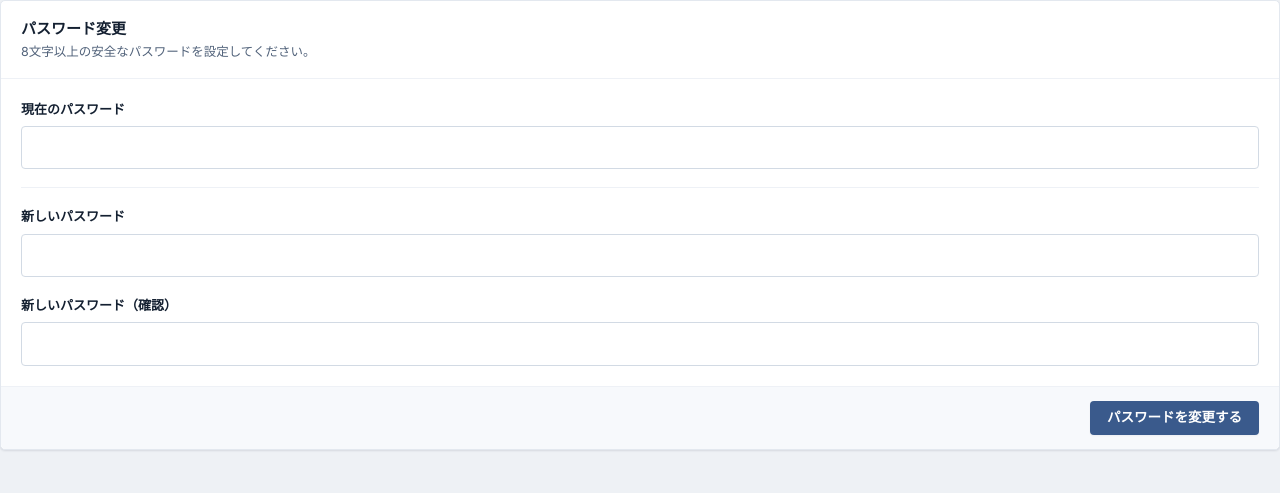
ChangePasswordForm › shows mismatch error when passwords differ
Type "old-password" into the password field with test id "current-password" at (640, 148), box [21,126,1259,170]
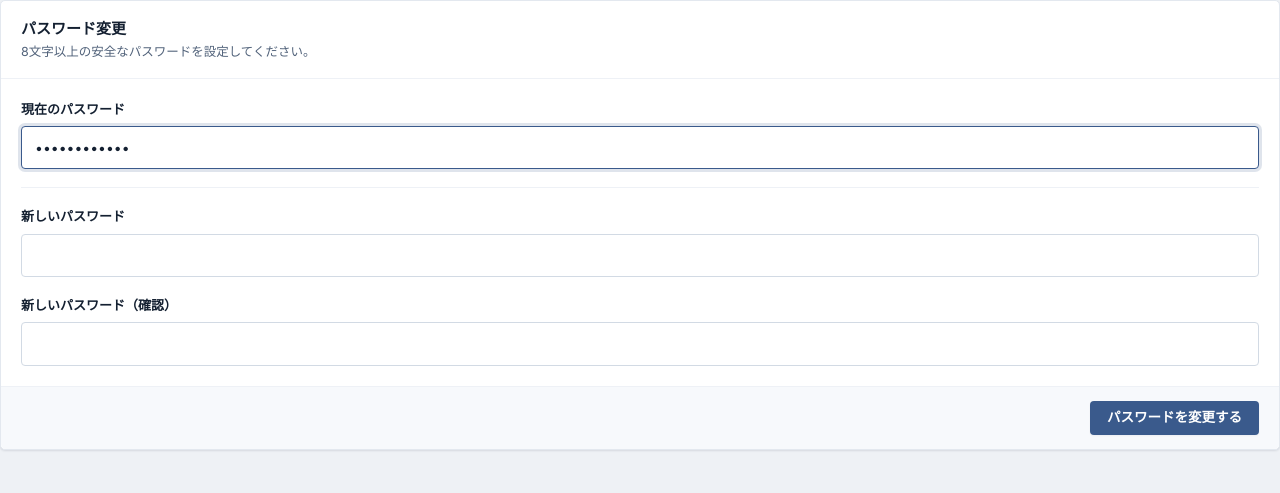
Type "new-password-123" into the password field with test id "new-password" at (640, 255), box [21,234,1259,277]
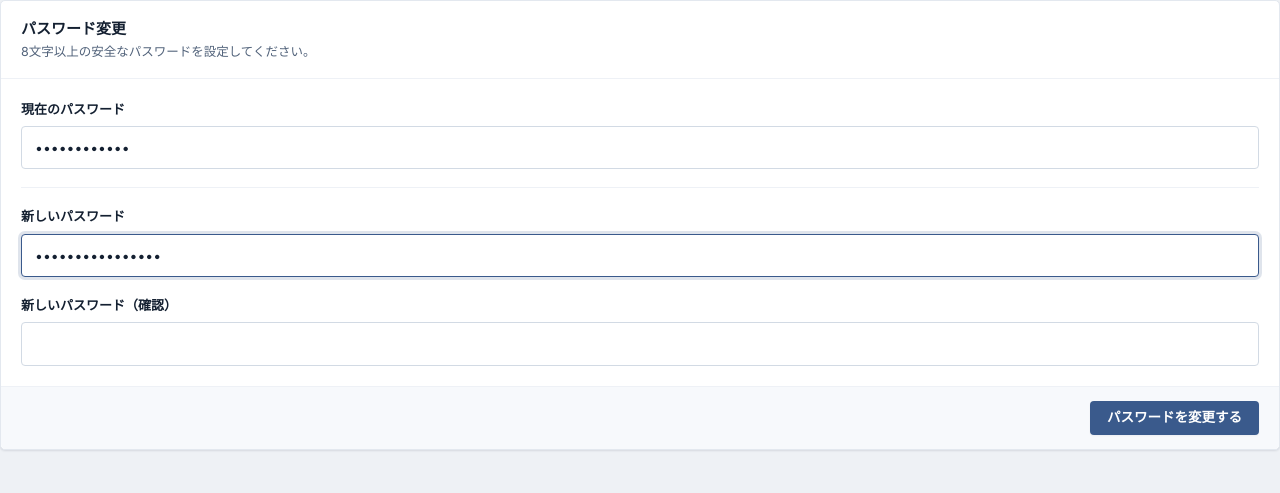
Type "different-password" into the password field with test id "confirm-password" at (640, 344), box [21,322,1259,366]
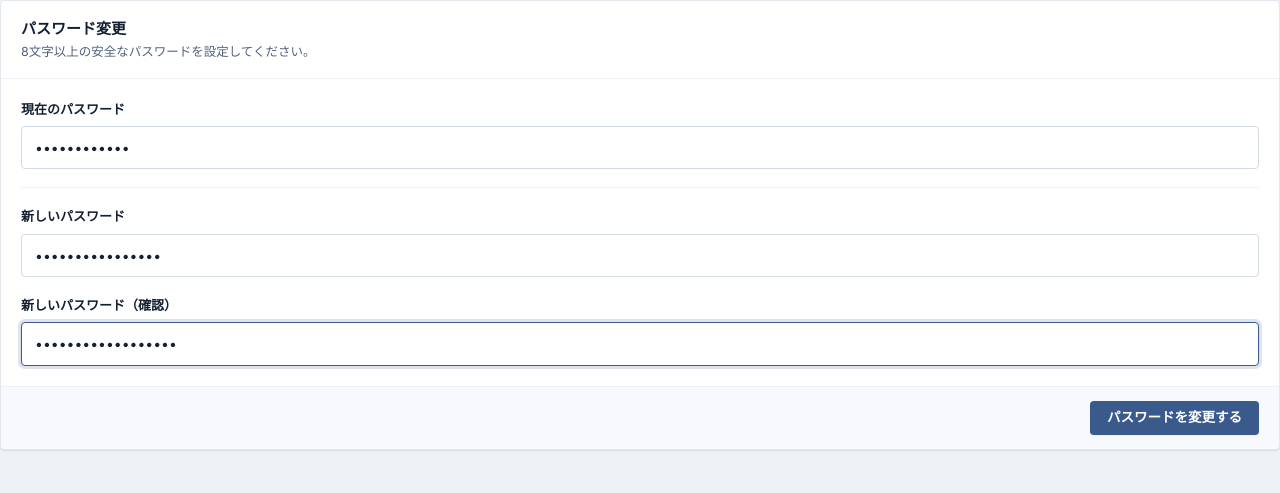
Click the button with test id "change-password-submit" at (1174, 418), box [1090,401,1259,435]
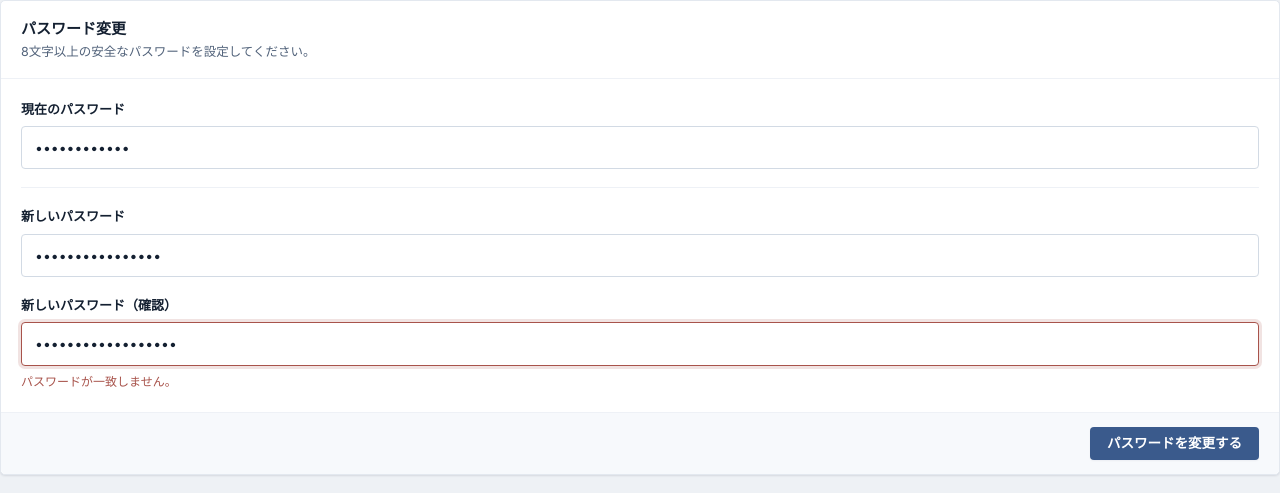
Result: the text "パスワードが一致しません。" is shown at [21,374,177,389]
